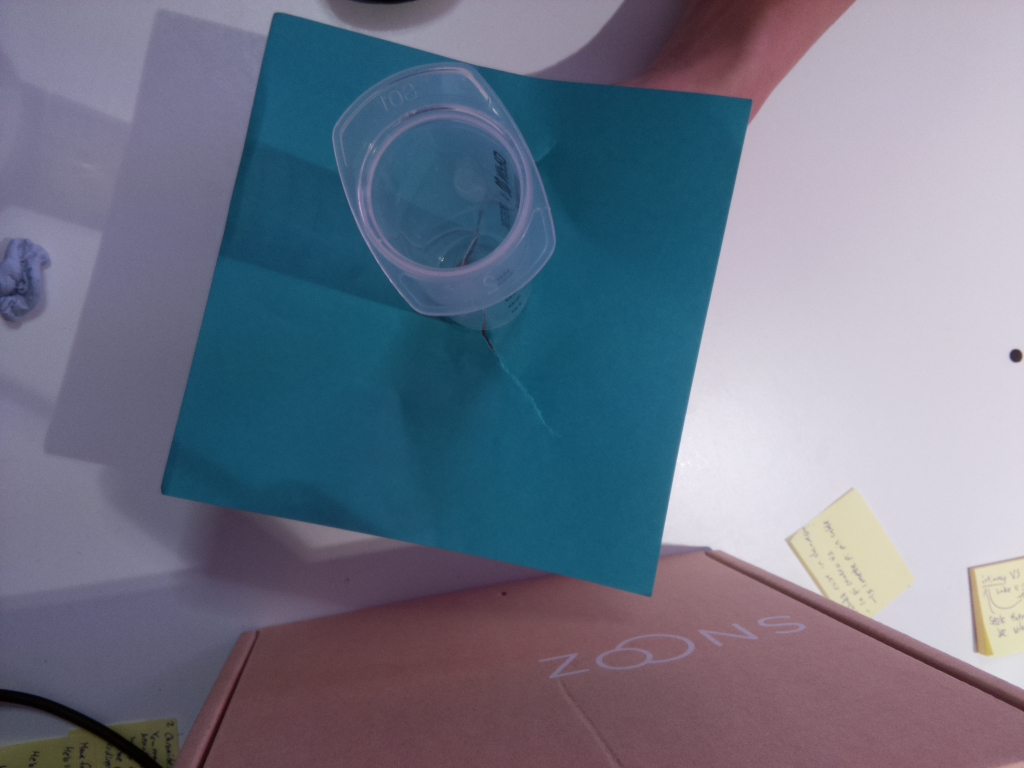clean: (325, 62, 558, 322)
